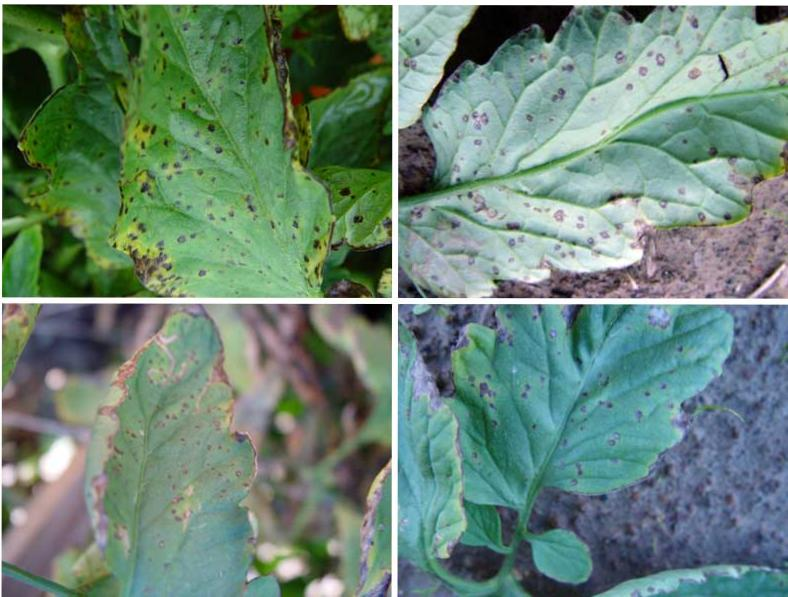Tomato leaf bacterial spot: (416, 10, 784, 293), (109, 14, 353, 300), (458, 309, 732, 557), (89, 306, 278, 585)
